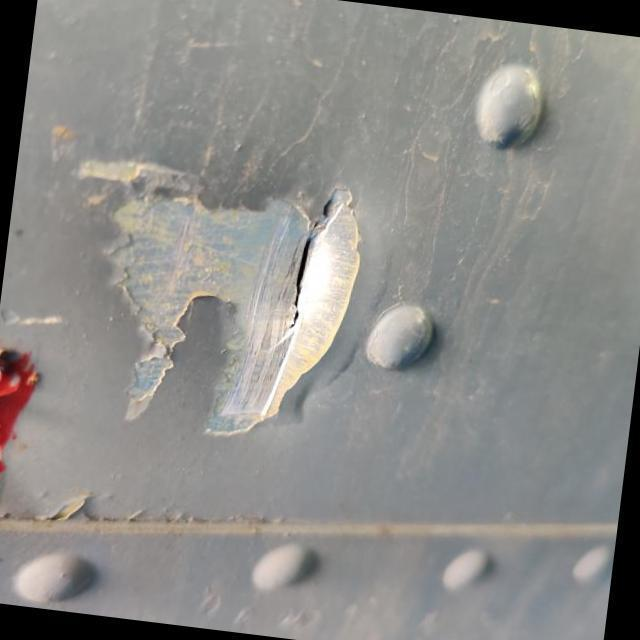Rupture: (257, 171, 354, 365)
